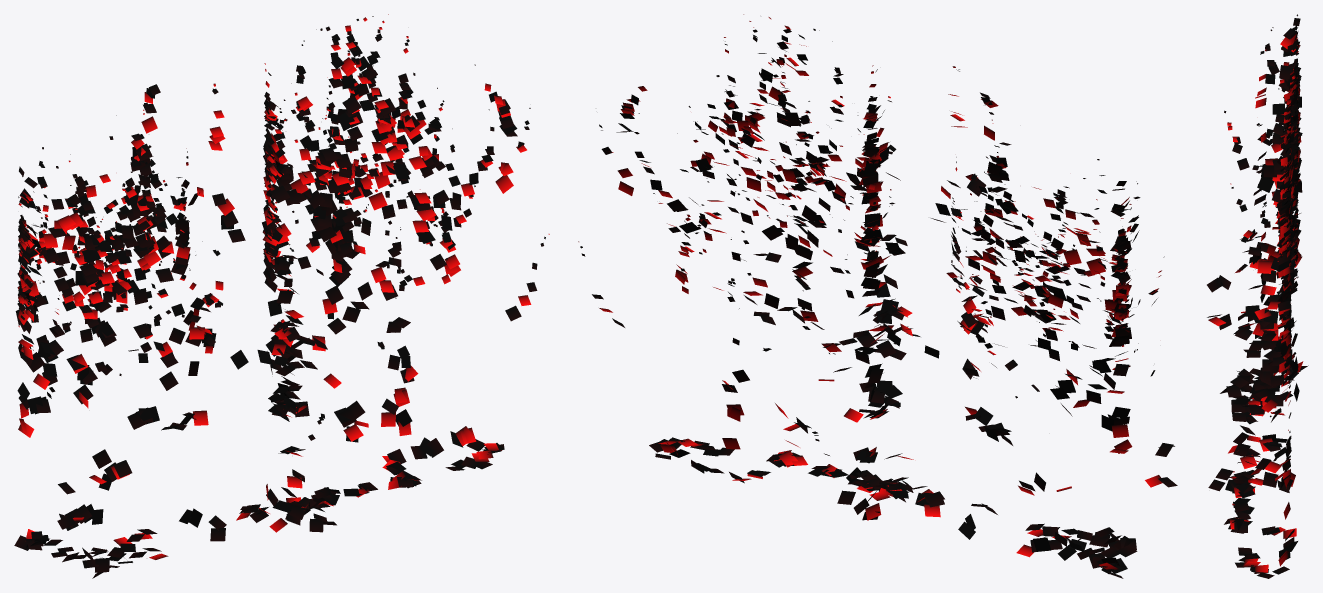
File: Ivy1_Leaf.FBX
3 renders of one model, left to right at view 1: azimuth 30°, elevation 25°; view 2: azimuth 150°, elevation 25°; view 3: azimuth 270°, elevation 25°, orthographic. The views are drawn at different scales.
Parts seen in each view (by area): view 1: Ivy1 (×2); view 2: Ivy1 (×2); view 3: Ivy1 (×2).
Part boxes in pixels (<box>): Ivy1 (×2): <box>14,14,549,578</box>; Ivy1 (×2): <box>578,14,1177,578</box>; Ivy1 (×2): <box>1207,14,1308,578</box>.
Size of the model in its own units: 493 by 422 by 89.13.
